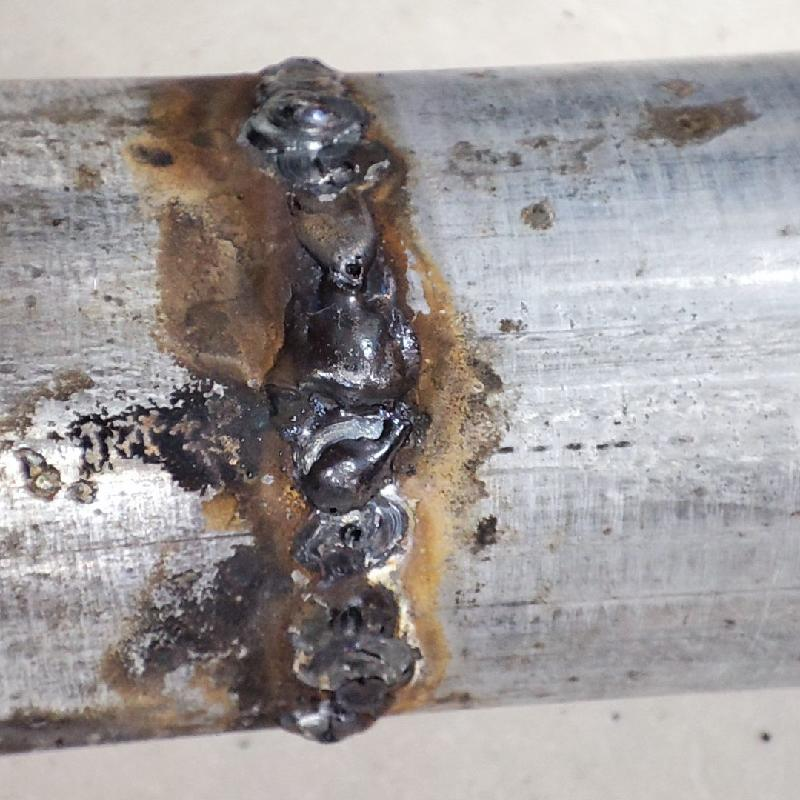Not_fully_soldered: (284, 509, 416, 715)
Surface_pores: (328, 250, 368, 282)
Weld: (279, 279, 414, 508)
wrong_size: (256, 57, 373, 176)
